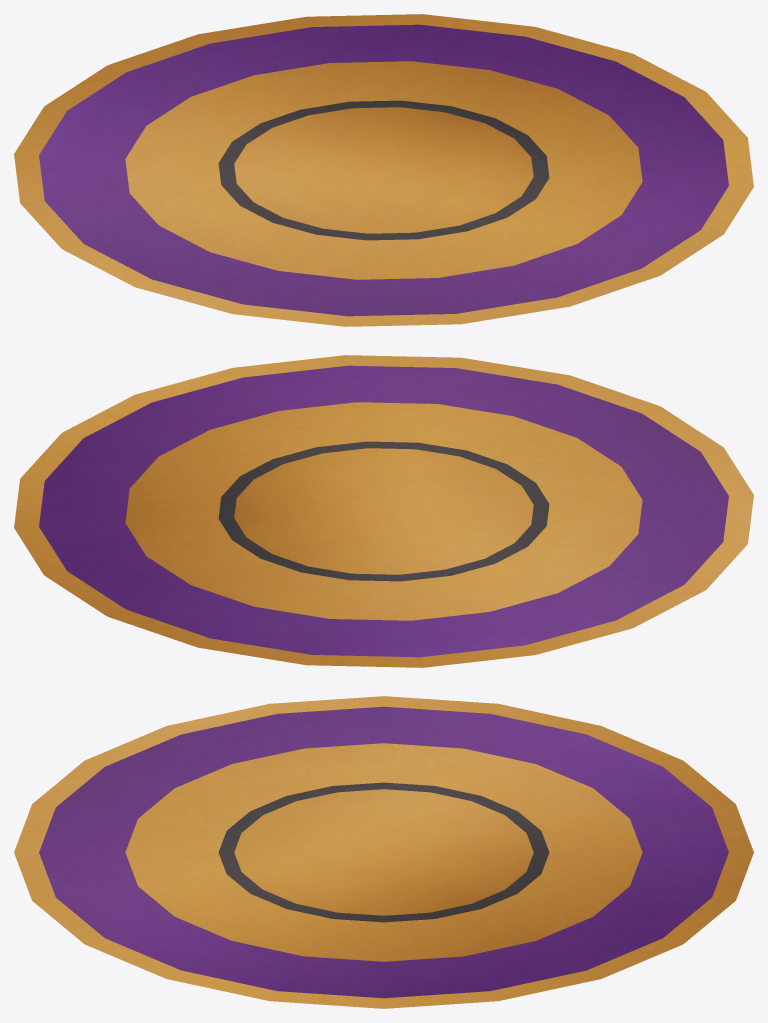
Rendered from SM_cermeon_rug_01.fbx.
3 renders of one model, top to bottom at view 1: azimuth 30°, elevation 25°; view 2: azimuth 150°, elevation 25°; view 3: azimuth 270°, elevation 25°, orthographic.
Parts seen in each view (by area): view 1: SM_cermeon_rug_01; view 2: SM_cermeon_rug_01; view 3: SM_cermeon_rug_01.
Part boxes in pixels (<box>): SM_cermeon_rug_01: <box>14,14,753,326</box>; SM_cermeon_rug_01: <box>14,355,753,667</box>; SM_cermeon_rug_01: <box>14,696,753,1008</box>.
Size of the model in its own units: 3.99 by 0 by 3.99.
